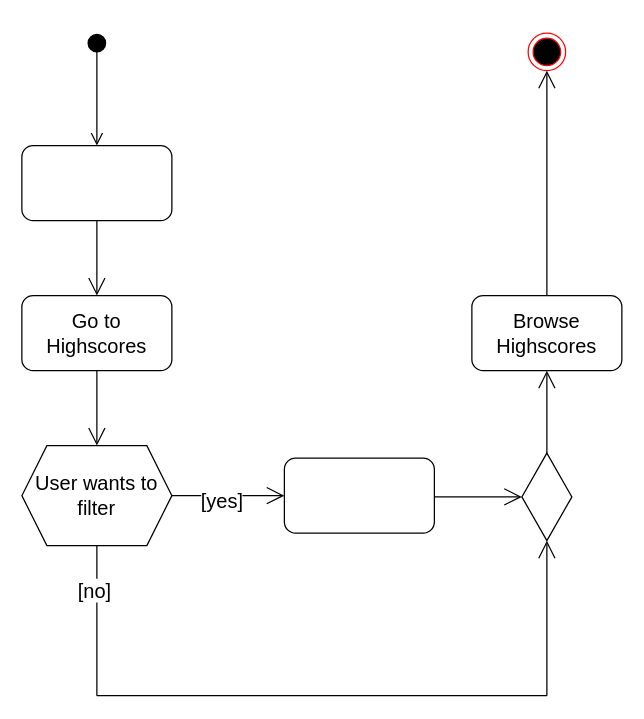
Image size: 644x719. Some labels were removed from this diagram. Each missing label, with the centre of its shape:
"Set filters" goes at (358,495).
"Visit Website" goes at (96,182).
